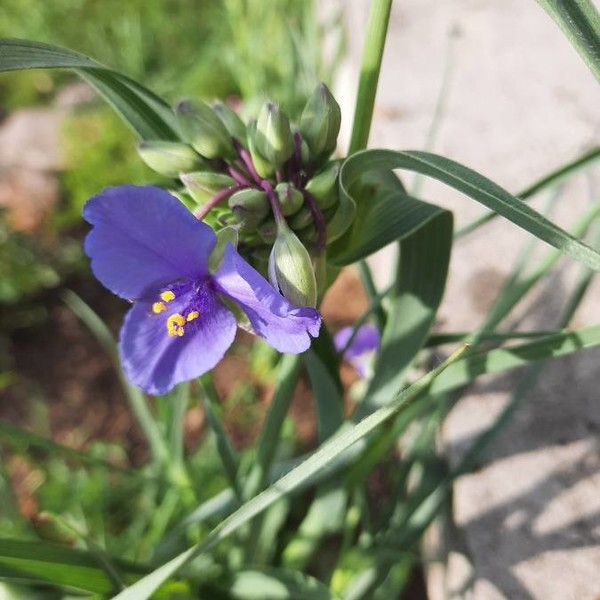obstacle: (64, 50, 473, 498)
